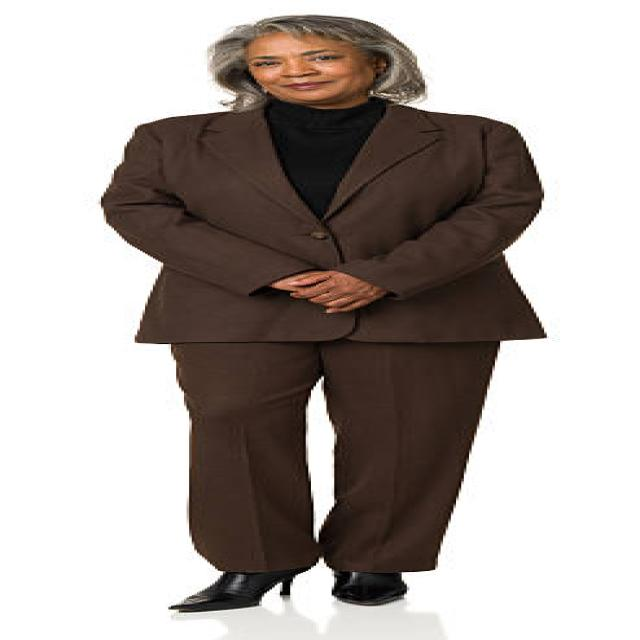Edited images: (79, 8, 566, 628)
